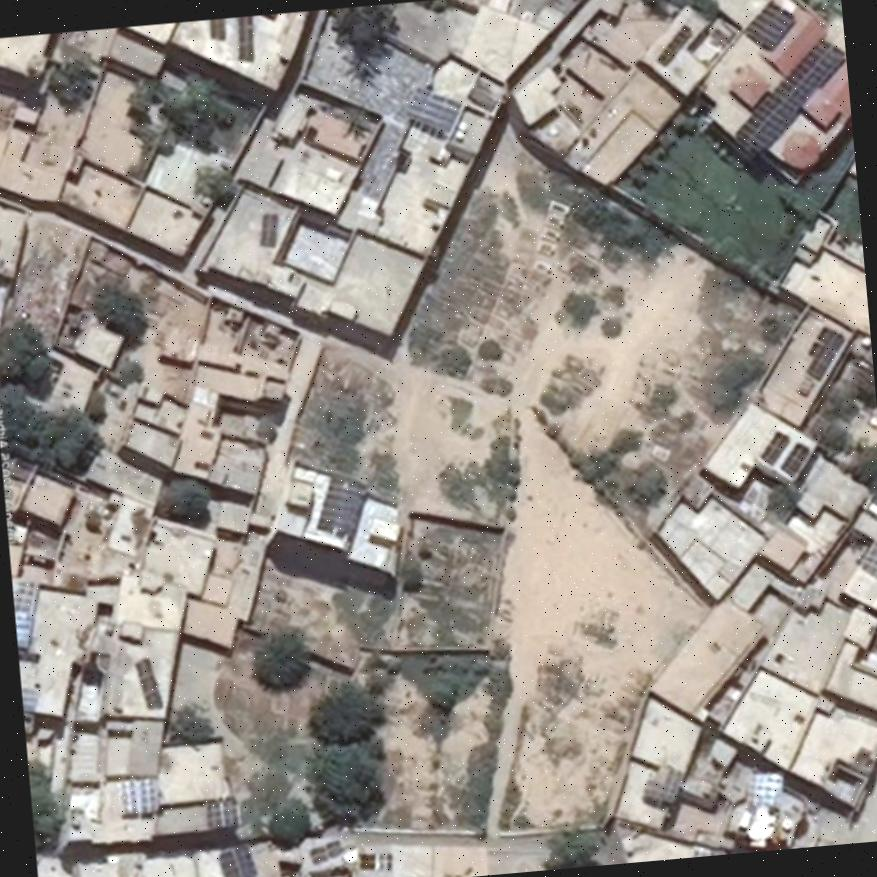Solarpanel: (733, 34, 842, 152), (403, 87, 458, 130), (744, 0, 794, 47), (807, 327, 844, 379), (116, 775, 157, 814), (12, 582, 35, 648), (218, 844, 257, 877), (135, 655, 160, 706), (749, 775, 783, 807), (206, 796, 238, 828), (758, 430, 789, 463), (780, 443, 810, 474), (236, 16, 251, 58), (859, 540, 877, 574)
